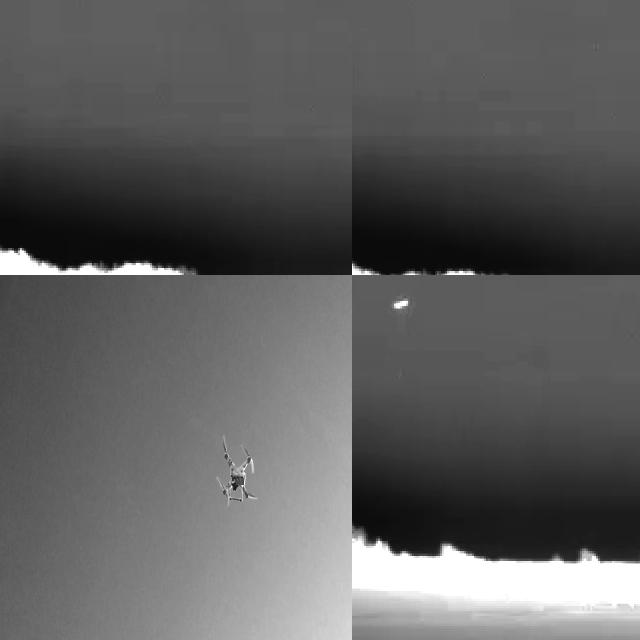1: (385, 292, 417, 325)
drone: (215, 430, 262, 516)
